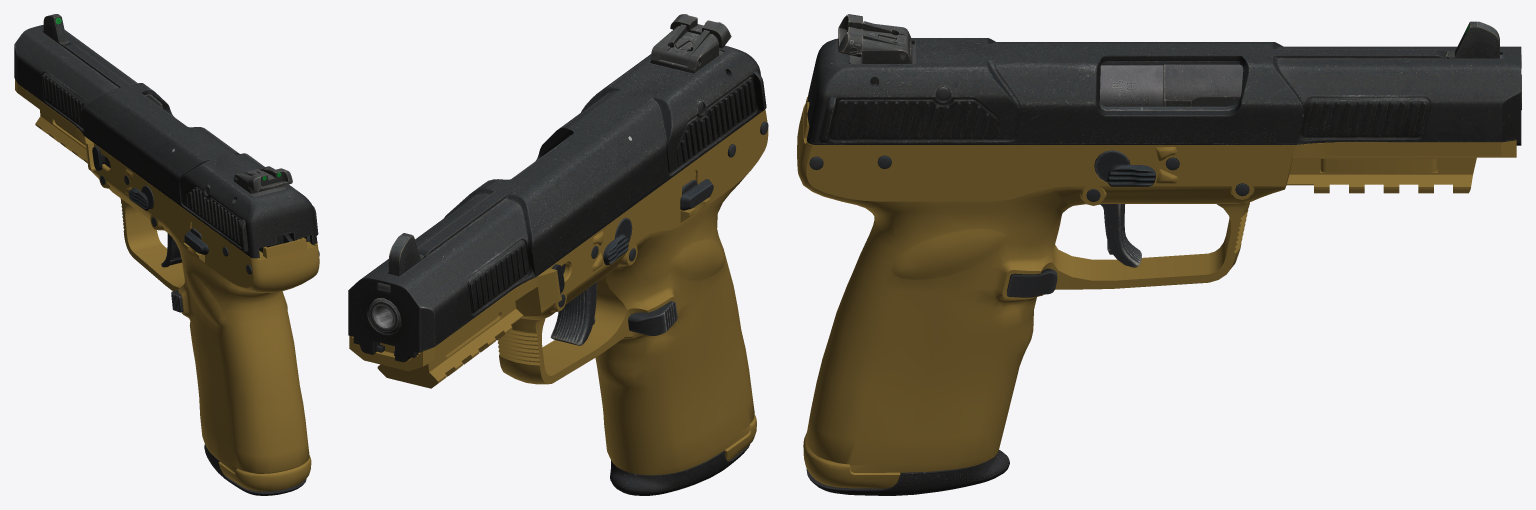
3 renders of one model, left to right at view 1: azimuth 30°, elevation 25°; view 2: azimuth 150°, elevation 25°; view 3: azimuth 270°, elevation 25°, orthographic. The views are drawn at different scales.
Parts seen in each view (by area): view 1: weapon_fn_five_seven_57x28_LOD0, slide, sight_rear_57_fn_five_seven_std_LOD0, mag_57_fn_five_seven_std_57x28_20_LOD0.001, sight_front_57_fn_five_seven_std_LOD0, safety, slide_release_LOD0, trigger_LOD0; view 2: weapon_fn_five_seven_57x28_LOD0, slide, sight_rear_57_fn_five_seven_std_LOD0, mag_57_fn_five_seven_std_57x28_20_LOD0.001, trigger_LOD0, mag_release_LOD0, sight_front_57_fn_five_seven_std_LOD0, barrel_57_fn_120mm_57x28_LOD0, safety, slide_release_LOD0; view 3: weapon_fn_five_seven_57x28_LOD0, slide, barrel_57_fn_120mm_57x28_LOD0, mag_57_fn_five_seven_std_57x28_20_LOD0.001, sight_rear_57_fn_five_seven_std_LOD0, safety, trigger_LOD0, sight_front_57_fn_five_seven_std_LOD0, reciever_57_fn_fiveseven_std_LOD0, mag_release_LOD0.
Boxes of the visible parts, box(x1,y1,x2,y2) form: weapon_fn_five_seven_57x28_LOD0: box(15, 79, 319, 491); slide: box(14, 25, 318, 258); sight_rear_57_fn_five_seven_std_LOD0: box(234, 166, 292, 196); mag_57_fn_five_seven_std_57x28_20_LOD0.001: box(204, 444, 306, 495); sight_front_57_fn_five_seven_std_LOD0: box(43, 14, 68, 45); safety: box(129, 185, 153, 210); slide_release_LOD0: box(184, 228, 208, 254); trigger_LOD0: box(161, 233, 182, 267); weapon_fn_five_seven_57x28_LOD0: box(349, 109, 768, 475); slide: box(348, 45, 766, 362); sight_rear_57_fn_five_seven_std_LOD0: box(651, 14, 731, 73); mag_57_fn_five_seven_std_57x28_20_LOD0.001: box(610, 444, 749, 495); trigger_LOD0: box(550, 282, 597, 345); mag_release_LOD0: box(628, 301, 677, 335); sight_front_57_fn_five_seven_std_LOD0: box(388, 233, 423, 276); barrel_57_fn_120mm_57x28_LOD0: box(368, 298, 401, 333); safety: box(603, 217, 632, 265); slide_release_LOD0: box(680, 179, 713, 210); weapon_fn_five_seven_57x28_LOD0: box(797, 96, 1516, 488); slide: box(806, 38, 1521, 145); barrel_57_fn_120mm_57x28_LOD0: box(1100, 64, 1521, 109); mag_57_fn_five_seven_std_57x28_20_LOD0.001: box(806, 450, 1009, 495); sight_rear_57_fn_five_seven_std_LOD0: box(838, 14, 914, 63); safety: box(1094, 150, 1155, 186); trigger_LOD0: box(1100, 204, 1141, 267); sight_front_57_fn_five_seven_std_LOD0: box(1446, 21, 1499, 58); reciever_57_fn_fiveseven_std_LOD0: box(1099, 54, 1521, 110); mag_release_LOD0: box(1007, 268, 1057, 297).
Bounding box in the file's own units: 3.72 × 14.47 × 20.85.
